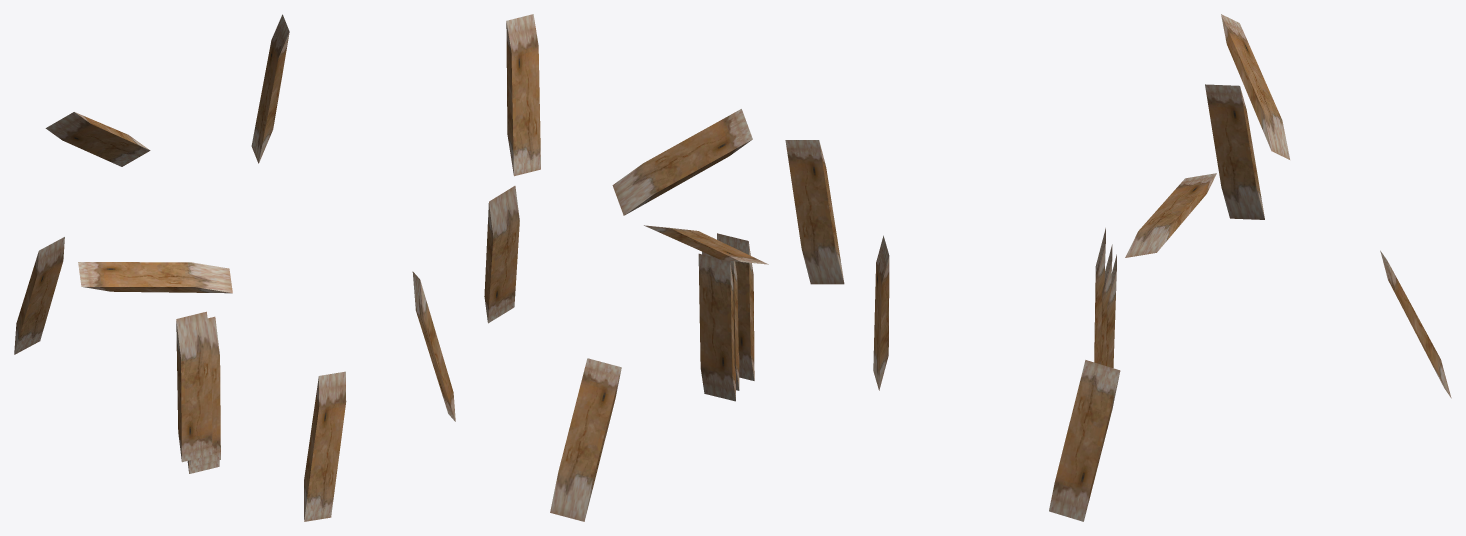
The model's file is EffCommonIta.obj.
3 views of the same model, side by side, from view 1: azimuth 30°, elevation 25°; view 2: azimuth 150°, elevation 25°; view 3: azimuth 270°, elevation 25° (orthographic). The views are drawn at different scales.
Visible parts, largest first — view 1: polygon2, polygon6, polygon8, polygon5, polygon7, polygon3, polygon4, polygon1; view 2: polygon5, polygon7, polygon6, polygon3, polygon0, polygon4, polygon2, polygon8, polygon1; view 3: polygon4, polygon3, polygon7, polygon8, polygon6, polygon5, polygon2, polygon0, polygon1.
Part boxes in pixels (x1=…): polygon2: x1=176, y1=311, x2=212, y2=462; polygon6: x1=304, y1=371, x2=346, y2=521; polygon8: x1=78, y1=262, x2=232, y2=293; polygon5: x1=14, y1=237, x2=64, y2=354; polygon7: x1=45, y1=112, x2=150, y2=166; polygon3: x1=251, y1=14, x2=289, y2=163; polygon4: x1=412, y1=271, x2=455, y2=421; polygon1: x1=189, y1=316, x2=220, y2=467; polygon5: x1=550, y1=358, x2=621, y2=521; polygon7: x1=612, y1=109, x2=752, y2=215; polygon6: x1=785, y1=140, x2=844, y2=284; polygon3: x1=506, y1=14, x2=540, y2=176; polygon0: x1=698, y1=253, x2=735, y2=401; polygon4: x1=484, y1=186, x2=519, y2=323; polygon2: x1=717, y1=233, x2=754, y2=380; polygon8: x1=644, y1=225, x2=768, y2=264; polygon1: x1=702, y1=251, x2=739, y2=390; polygon4: x1=1049, y1=360, x2=1120, y2=521; polygon3: x1=1205, y1=84, x2=1264, y2=219; polygon7: x1=1221, y1=14, x2=1289, y2=159; polygon8: x1=1125, y1=173, x2=1216, y2=257; polygon6: x1=873, y1=235, x2=889, y2=390; polygon5: x1=1380, y1=250, x2=1451, y2=398; polygon2: x1=1094, y1=228, x2=1105, y2=364; polygon0: x1=1106, y1=254, x2=1116, y2=367; polygon1: x1=1101, y1=244, x2=1112, y2=365.
Size of the model in its own units: 13.91 by 15.13 by 20.02.
1 material, 1 textured.
